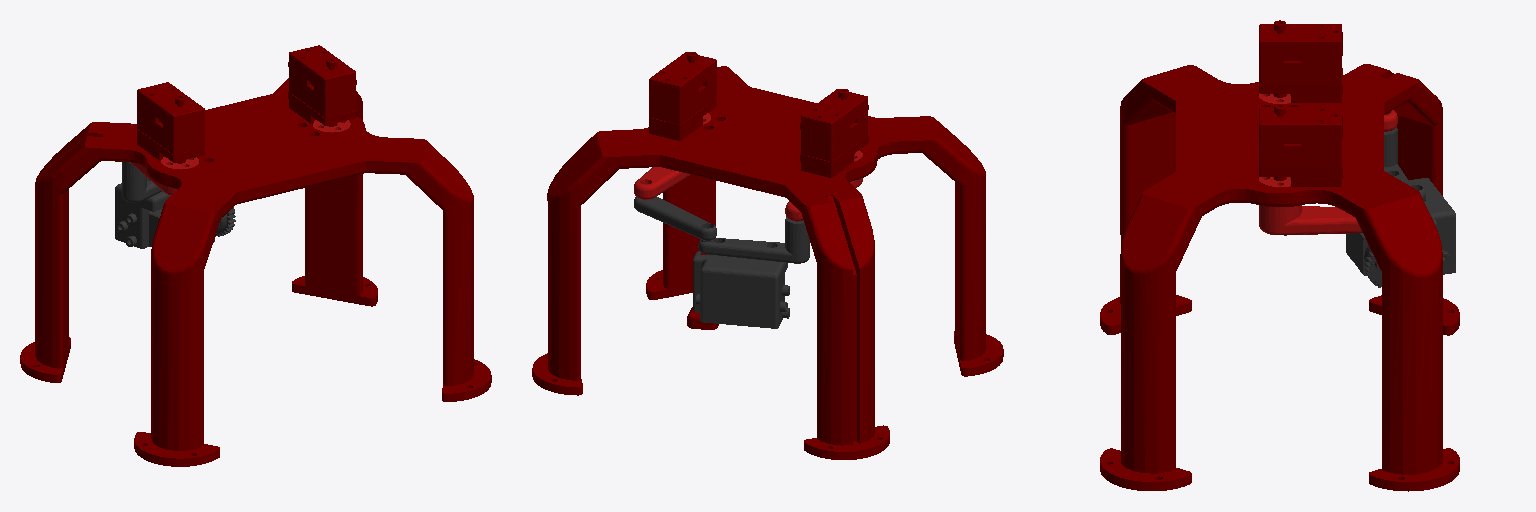
robot.urdf — robot_files:
<?xml version="1.0" encoding="utf-8"?>
<!-- This URDF was automatically created by SolidWorks to URDF Exporter! Originally created by [author] ([email redacted]) 
     Commit Version: 1.6.0-1-g15f4949  Build Version: 1.6.7594.29634
     For more information, please see http://wiki.ros.org/sw_urdf_exporter -->
<robot
  name="robot_files">
  <link
    name="base_link">
    <inertial>
      <origin
        xyz="0.000918722169914224 0.00343955832859566 -0.0594339676459208"
        rpy="0 0 0" />
      <mass
        value="0.607299787326349" />
      <inertia
        ixx="0.00409895445744859"
        ixy="-4.29420289339434E-05"
        ixz="8.53173065999497E-06"
        iyy="0.00612240008379075"
        iyz="7.28635414394287E-05"
        izz="0.00721956172445048" />
    </inertial>
    <visual>
      <origin
        xyz="0 0 0"
        rpy="0 0 0" />
      <geometry>
        <mesh
          filename="package://robot_files/meshes/base_link.STL" />
      </geometry>
      <material
        name="">
        <color
          rgba="0.501960784313725 0 0 1" />
      </material>
    </visual>
    <collision>
      <origin
        xyz="0 0 0"
        rpy="0 0 0" />
      <geometry>
        <mesh
          filename="package://robot_files/meshes/base_link.STL" />
      </geometry>
    </collision>
  </link>
  <link
    name="Left_Wing">
    <inertial>
      <origin
        xyz="1.13718792299489E-08 0.020941352056886 0.0135367772048516"
        rpy="0 0 0" />
      <mass
        value="0.0170525154200708" />
      <inertia
        ixx="8.41258872248524E-06"
        ixy="-6.83074668451771E-12"
        ixz="1.6358666650079E-12"
        iyy="1.10862246332279E-06"
        iyz="-9.07733203595842E-07"
        izz="8.53994085230851E-06" />
    </inertial>
    <visual>
      <origin
        xyz="0 0 0"
        rpy="0 0 0" />
      <geometry>
        <mesh
          filename="package://robot_files/meshes/Left_Wing.STL" />
      </geometry>
      <material
        name="">
        <color
          rgba="0.694117647058824 0.0980392156862745 0.0980392156862745 1" />
      </material>
    </visual>
    <collision>
      <origin
        xyz="0 0 0"
        rpy="0 0 0" />
      <geometry>
        <mesh
          filename="package://robot_files/meshes/Left_Wing.STL" />
      </geometry>
    </collision>
  </link>
  <joint
    name="Left_Shoulder"
    type="continuous">
    <origin
      xyz="-0.057 0 0"
      rpy="3.14159265358979 0 -3.14147418503337" />
    <parent
      link="base_link" />
    <child
      link="Left_Wing" />
    <axis
      xyz="0 0 -1" />
  </joint>
  <link
    name="Left_Arm">
    <inertial>
      <origin
        xyz="0.00383979636023131 0.0357478681682257 0.0410237274937738"
        rpy="0 0 0" />
      <mass
        value="0.0516413964304408" />
      <inertia
        ixx="2.04415960512838E-05"
        ixy="3.85757381148507E-07"
        ixz="-9.81457271985976E-07"
        iyy="8.467046391812E-06"
        iyz="-1.48946395606745E-06"
        izz="1.87654290799313E-05" />
    </inertial>
    <visual>
      <origin
        xyz="0 0 0"
        rpy="0 0 0" />
      <geometry>
        <mesh
          filename="package://robot_files/meshes/Left_Arm.STL" />
      </geometry>
      <material
        name="">
        <color
          rgba="0.250980392156863 0.250980392156863 0.250980392156863 1" />
      </material>
    </visual>
    <collision>
      <origin
        xyz="0 0 0"
        rpy="0 0 0" />
      <geometry>
        <mesh
          filename="package://robot_files/meshes/Left_Arm.STL" />
      </geometry>
    </collision>
  </link>
  <joint
    name="Left_Elbow"
    type="continuous">
    <origin
      xyz="0 0.06 0.0218"
      rpy="0 0 1.25190781692008" />
    <parent
      link="Left_Wing" />
    <child
      link="Left_Arm" />
    <axis
      xyz="0 0 -1" />
  </joint>
  <link
    name="Pusher">
    <inertial>
      <origin
        xyz="7.90079900270246E-06 1.46679547617656E-06 -0.0118921489197418"
        rpy="0 0 0" />
      <mass
        value="0.00327033697743112" />
      <inertia
        ixx="6.52897420453014E-07"
        ixy="-9.12919106345013E-14"
        ixz="7.80453279116826E-10"
        iyy="6.55134699818868E-07"
        iyz="8.54736636036147E-11"
        izz="1.46790811342743E-07" />
    </inertial>
    <visual>
      <origin
        xyz="0 0 0"
        rpy="0 0 0" />
      <geometry>
        <mesh
          filename="package://robot_files/meshes/Pusher.STL" />
      </geometry>
      <material
        name="">
        <color
          rgba="0.501960784313725 0 0 1" />
      </material>
    </visual>
    <collision>
      <origin
        xyz="0 0 0"
        rpy="0 0 0" />
      <geometry>
        <mesh
          filename="package://robot_files/meshes/Pusher.STL" />
      </geometry>
    </collision>
  </link>
  <joint
    name="Pusher_Linear_Joint"
    type="prismatic">
    <origin
      xyz="0.001599 0.06201 0.080314"
      rpy="0 0 3.1416" />
    <parent
      link="Left_Arm" />
    <child
      link="Pusher" />
    <axis
      xyz="0 0 1" />
    <limit
      lower="0"
      upper="0.01"
      effort="0"
      velocity="0" />
  </joint>
  <link
    name="Right_Wing">
    <inertial>
      <origin
        xyz="-1.1903859009621E-09 0.0174283238330747 0.0210758473943455"
        rpy="0 0 0" />
      <mass
        value="0.0205159397398244" />
      <inertia
        ixx="1.1020262167311E-05"
        ixy="-7.3841319479749E-12"
        ixz="-2.9639554363113E-12"
        iyy="2.45362903468534E-06"
        iyz="-2.14049470008707E-06"
        izz="1.0086406628157E-05" />
    </inertial>
    <visual>
      <origin
        xyz="0 0 0"
        rpy="0 0 0" />
      <geometry>
        <mesh
          filename="package://robot_files/meshes/Right_Wing.STL" />
      </geometry>
      <material
        name="">
        <color
          rgba="0.694117647058824 0.0980392156862745 0.0980392156862745 1" />
      </material>
    </visual>
    <collision>
      <origin
        xyz="0 0 0"
        rpy="0 0 0" />
      <geometry>
        <mesh
          filename="package://robot_files/meshes/Right_Wing.STL" />
      </geometry>
    </collision>
  </link>
  <joint
    name="Right_Shoulder"
    type="continuous">
    <origin
      xyz="0.057 0 0"
      rpy="3.14159265358979 0 3.14123293721384" />
    <parent
      link="base_link" />
    <child
      link="Right_Wing" />
    <axis
      xyz="0 0 1" />
  </joint>
  <link
    name="Right_Arm">
    <inertial>
      <origin
        xyz="0.000899898154557391 0.0269819162539917 0.00457404795047582"
        rpy="0 0 0" />
      <mass
        value="0.00787461829731969" />
      <inertia
        ixx="2.99705129724147E-06"
        ixy="-9.42935964090507E-08"
        ixz="-3.1970563468735E-10"
        iyy="1.72965417241279E-07"
        iyz="-9.58641568161662E-09"
        izz="3.07401564500097E-06" />
    </inertial>
    <visual>
      <origin
        xyz="0 0 0"
        rpy="0 0 0" />
      <geometry>
        <mesh
          filename="package://robot_files/meshes/Right_Arm.STL" />
      </geometry>
      <material
        name="">
        <color
          rgba="0.250980392156863 0.250980392156863 0.250980392156863 1" />
      </material>
    </visual>
    <collision>
      <origin
        xyz="0 0 0"
        rpy="0 0 0" />
      <geometry>
        <mesh
          filename="package://robot_files/meshes/Right_Arm.STL" />
      </geometry>
    </collision>
  </link>
  <joint
    name="Right_Elbow"
    type="continuous">
    <origin
      xyz="0 0.0599999999999979 0.0327999999999994"
      rpy="0 0 -1.22102267702235" />
    <parent
      link="Right_Wing" />
    <child
      link="Right_Arm" />
    <axis
      xyz="0 0 1" />
  </joint>
</robot>

--- Facts derived from the render (not from the file) ---
Views: 3 orthographic renders of the robot side by side, from view 1: azimuth 30°, elevation 25°; view 2: azimuth 150°, elevation 25°; view 3: azimuth 270°, elevation 25°.
Robot: robot_files — 6 links, 5 joints (4 continuous, 1 prismatic); root link base_link; default pose: all joints at 0.
Visible links, largest first — view 1: base_link, Left_Arm; view 2: base_link, Left_Arm, Right_Arm, Right_Wing; view 3: base_link, Left_Arm, Right_Wing.
Boxes of the visible links, x1,y1,x2,y2 form: base_link: (20,45,491,466); Left_Arm: (115,162,235,248); base_link: (532,52,1003,459); Left_Arm: (693,217,809,328); Right_Arm: (634,196,716,241); Right_Wing: (634,113,710,199); base_link: (1100,20,1459,491); Left_Arm: (1346,127,1455,287); Right_Wing: (1259,177,1362,235).
Size in the robot's own frame: 0.2599 by 0.2082 by 0.212 metres.
6 mesh visuals loaded from 6 distinct referenced files (6 binary STL).